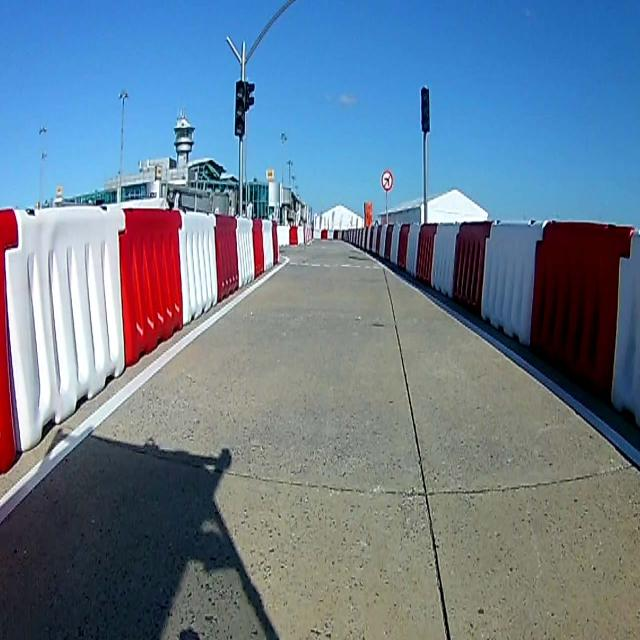soladonulmez: (381, 168, 393, 192)
